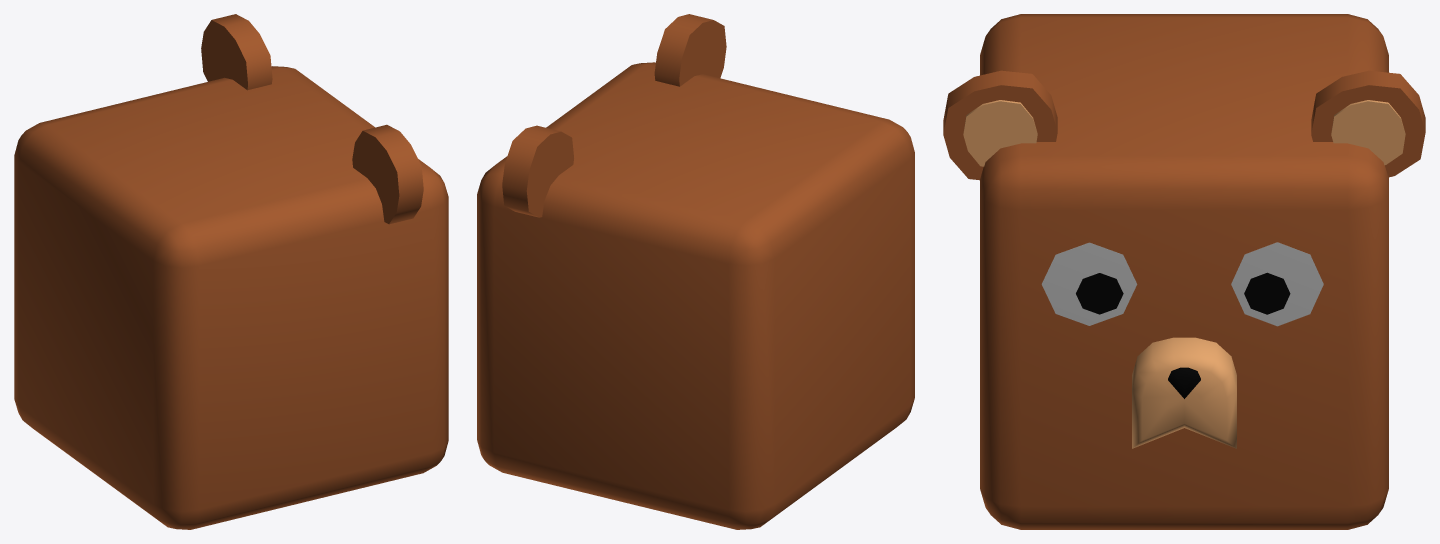
File: bear.fbx
The picture shows the model from 3 angles, left to right: view 1: azimuth 30°, elevation 25°; view 2: azimuth 150°, elevation 25°; view 3: azimuth 270°, elevation 25°; orthographic projection. The views are drawn at different scales.
Parts seen in each view (by area): view 1: Cube, Cube.003, Cube.002; view 2: Cube, Cube.002, Cube.003; view 3: Cube, Cylinder.003, Cube.003, Cube.002, Cylinder.002, Cylinder.004, Cube.005, Cube.001, Cylinder.005, Cylinder.001, Cube.004.
Part boxes in pixels (x1,y1,x2,y2): Cube: (14,66,448,529); Cube.003: (352,124,423,224); Cube.002: (201,14,272,90); Cube: (477,62,914,529); Cube.002: (502,125,573,217); Cube.003: (654,14,726,86); Cube: (980,14,1388,529); Cylinder.003: (1132,337,1236,448); Cube.003: (943,70,1057,180); Cube.002: (1311,70,1425,177); Cylinder.002: (1041,242,1137,325); Cylinder.004: (1231,242,1323,326); Cube.005: (1331,100,1405,165); Cube.001: (963,100,1037,166); Cylinder.005: (1076,273,1123,314); Cylinder.001: (1244,272,1290,314); Cube.004: (1168,367,1200,398).
Size of the model in its own units: 231 by 231 by 236.
